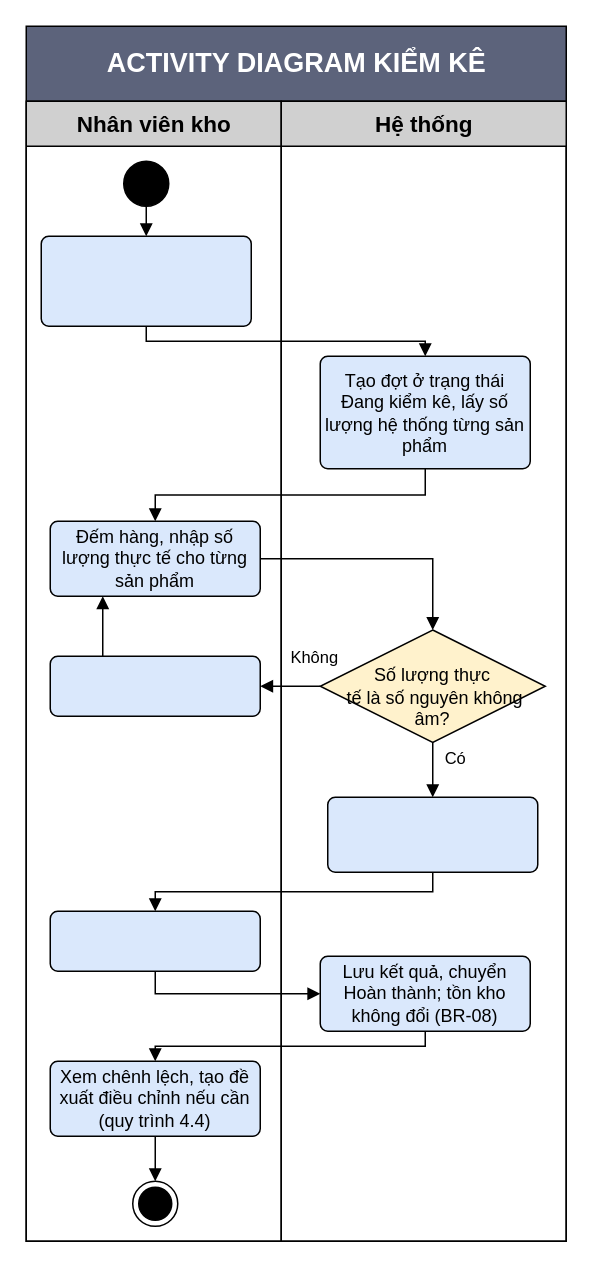
This 593x1268 diagram has some shape labels left out. The box of each missing label's shape, as (x1, y1, x2, y2) in pixels:
Bấm Hoàn thành kiểm kê: (49, 910, 260, 971)
Sửa lại số lượng theo thông báo lỗi: (49, 655, 260, 716)
Tính chênh lệch = thực tế - hệ thống cho từng dòng: (326, 796, 538, 872)
Tạo đợt kiểm kê: chọn kho (và loại sản phẩm nếu cần): (40, 235, 251, 326)
